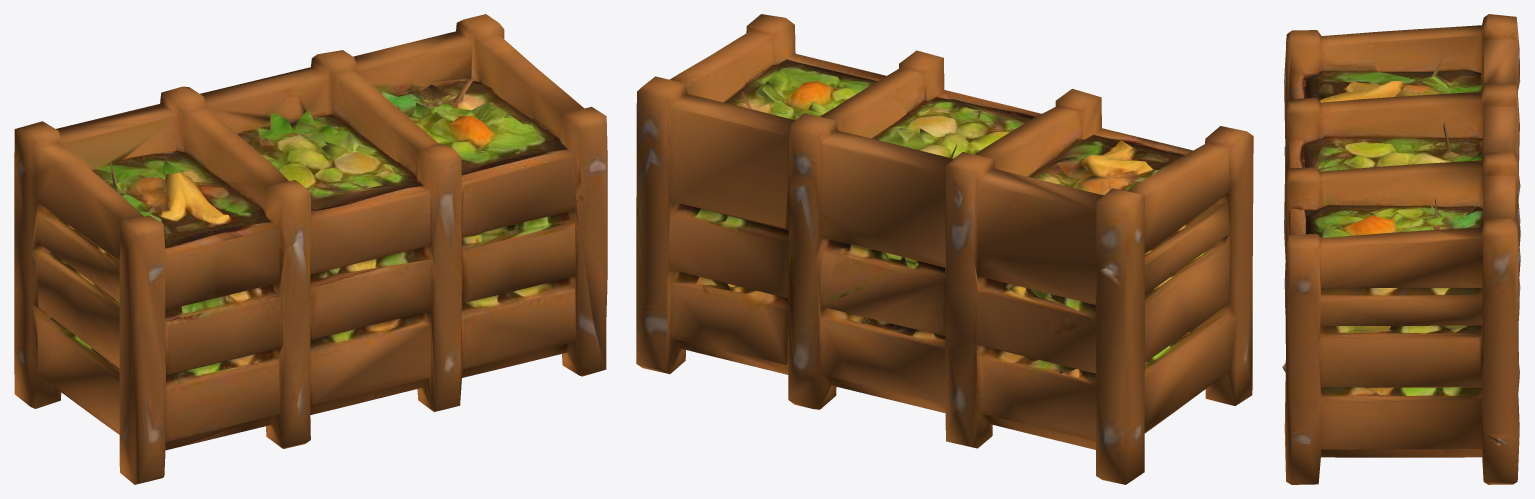
Rendered from compost.glb.
The picture shows the model from 3 angles, left to right: view 1: azimuth 30°, elevation 25°; view 2: azimuth 150°, elevation 25°; view 3: azimuth 270°, elevation 25°; orthographic projection. The views are drawn at different scales.
Parts seen in each view (by area): view 1: model; view 2: model; view 3: model.
Part boxes in pixels (box(x1,y1,x2,y2)): model: box(14, 14, 607, 484); model: box(636, 14, 1253, 484); model: box(1282, 14, 1520, 484).
Size of the model in its own units: 1.89 by 1.04 by 0.8708.
1 material, 1 textured.
